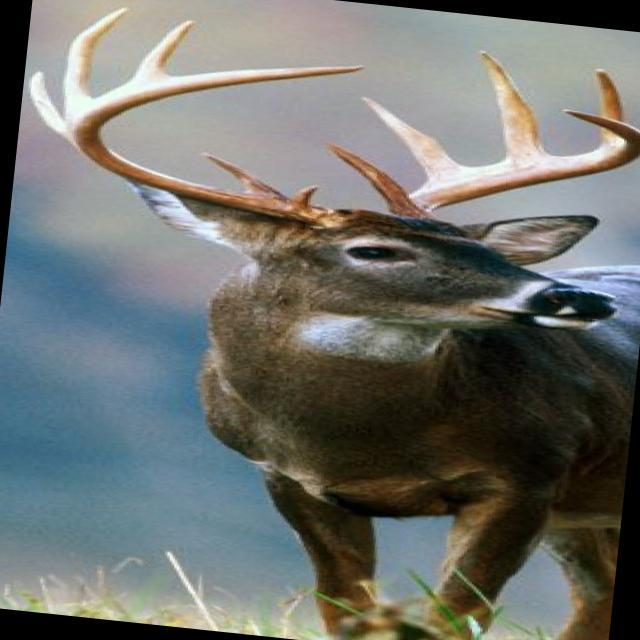L-F: (387, 108, 640, 221)
L-G1: (321, 142, 409, 205)
L-G2: (357, 96, 464, 183)
L-G3: (476, 47, 549, 161)
R-F: (64, 64, 366, 233)
R-G1: (291, 179, 322, 208)
R-G2: (191, 147, 288, 200)
R-G3: (24, 67, 62, 137)
R-G4: (56, 1, 136, 120)
R-G5: (126, 14, 198, 80)
